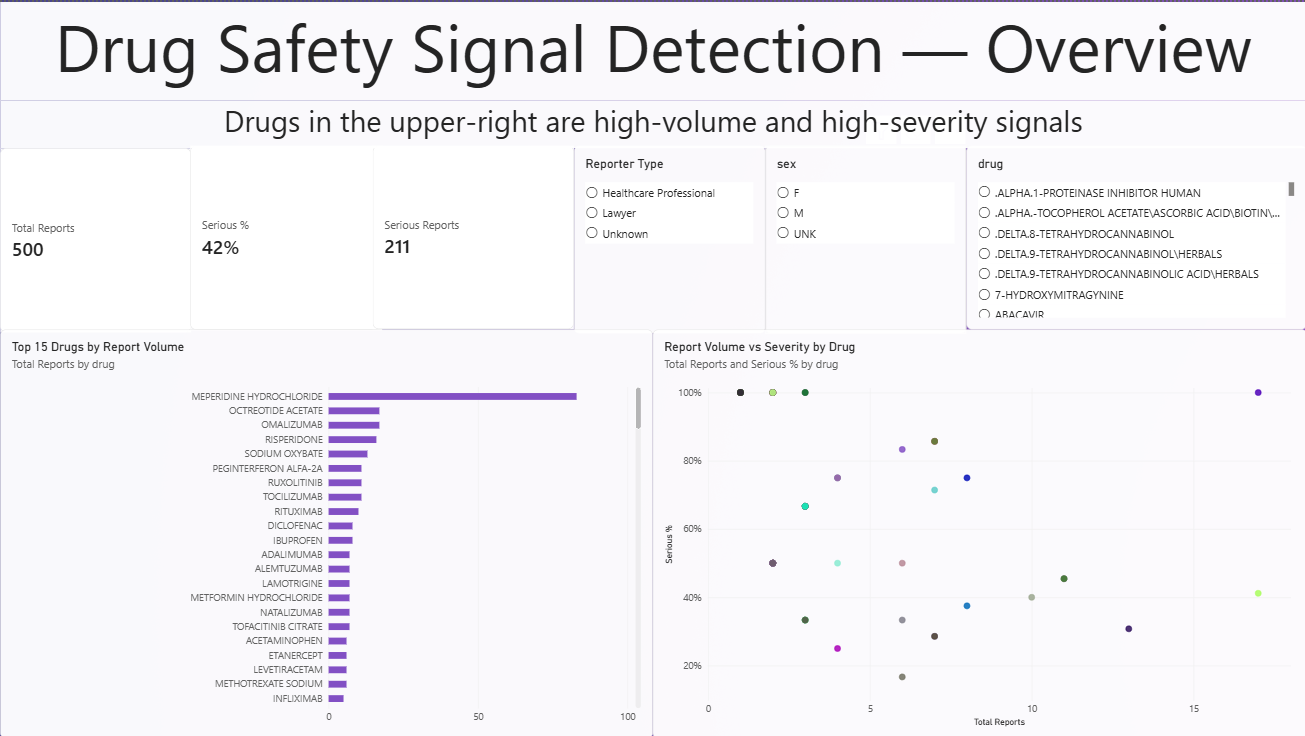

The dashboard page shown, as its layout file describes it:
{"tool":"powerbi","page":{"name":"Page 1","canvas":[1920,1080],"ordinal":0},"visuals":[{"type":"textbox","box":[1.8,0,1916.8,144.9],"z":0},{"type":"cardVisual","fields":{"Data":["Final_Case_Table.Total Reports"]},"box":[1.8,214.6,280,270],"z":1000},{"type":"cardVisual","fields":{"Data":["Final_Case_Table.Serious %"]},"box":[282.5,210.9,280.6,269.6],"z":2000},{"type":"cardVisual","fields":{"Data":["Final_Case_Table.Serious Reports"]},"box":[563.1,210.9,280,270],"z":3000},{"type":"listSlicer","fields":{"Values":["Final_Case_Table.sex"]},"box":[1124.4,210.9,295.3,275.1],"z":4000},{"type":"listSlicer","fields":{"Values":["Final_Case_Table.Reporter Type"]},"box":[843.8,210.9,280.6,275.1],"z":5000},{"type":"clusteredBarChart","fields":{"Category":["Dim_Drug.drug"],"Y":["Final_Case_Table.Total Reports"]},"box":[1.8,480.6,957.5,599.8],"z":6000},{"type":"scatterChart","fields":{"Y":["Final_Case_Table.Serious %"],"X":["Final_Case_Table.Total Reports"],"Series":["Dim_Drug.drug"]},"box":[959.3,480.6,961.1,599.8],"z":7000},{"type":"listSlicer","fields":{"Values":["Dim_Drug.drug"]},"box":[1419.7,210.9,498.9,269.6],"z":8000},{"type":"textbox","box":[1.8,144.9,1916.8,69.7],"z":9000}]}

Visuals, with their boxes in screenshot pixels (x1, y1, x2, y2), scaled from the page's 1920x1080 canvas onto the 1305x736 screenshot:
textbox: l=1, t=0, r=1304, b=99
cardVisual - Final_Case_Table.Total Reports: l=1, t=146, r=192, b=330
cardVisual - Final_Case_Table.Serious %: l=192, t=144, r=383, b=327
cardVisual - Final_Case_Table.Serious Reports: l=383, t=144, r=573, b=328
listSlicer - Final_Case_Table.sex: l=764, t=144, r=965, b=331
listSlicer - Final_Case_Table.Reporter Type: l=574, t=144, r=764, b=331
clusteredBarChart - Dim_Drug.drug x Final_Case_Table.Total Reports: l=1, t=328, r=652, b=735
scatterChart - Final_Case_Table.Serious % x Final_Case_Table.Total Reports: l=652, t=328, r=1304, b=735
listSlicer - Dim_Drug.drug: l=965, t=144, r=1304, b=327
textbox: l=1, t=99, r=1304, b=146
